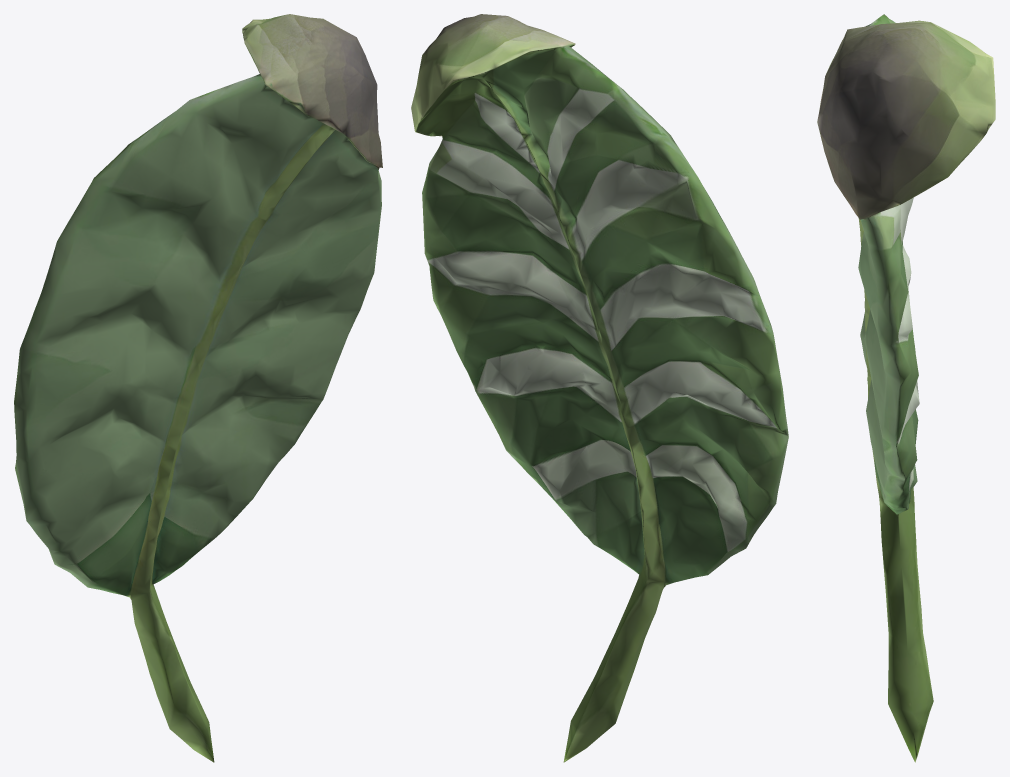
The model's file is ca_leaf_young.glb.
3 views of the same model, side by side, from view 1: azimuth 30°, elevation 25°; view 2: azimuth 150°, elevation 25°; view 3: azimuth 270°, elevation 25° (orthographic). The views are drawn at different scales.
Visible parts, largest first — view 1: tripo_node_1493a516-6c6b-4966-b1ac-d2d1ab1e91b0; view 2: tripo_node_1493a516-6c6b-4966-b1ac-d2d1ab1e91b0; view 3: tripo_node_1493a516-6c6b-4966-b1ac-d2d1ab1e91b0.
Boxes of the visible parts, x1=… form: tripo_node_1493a516-6c6b-4966-b1ac-d2d1ab1e91b0: x1=14, y1=14, x2=382, y2=762; tripo_node_1493a516-6c6b-4966-b1ac-d2d1ab1e91b0: x1=411, y1=14, x2=788, y2=762; tripo_node_1493a516-6c6b-4966-b1ac-d2d1ab1e91b0: x1=817, y1=14, x2=995, y2=762.
Bounding box in the file's own units: 0.5394 × 1.02 × 0.2128.
Materials: 1 (1 with a texture image).
